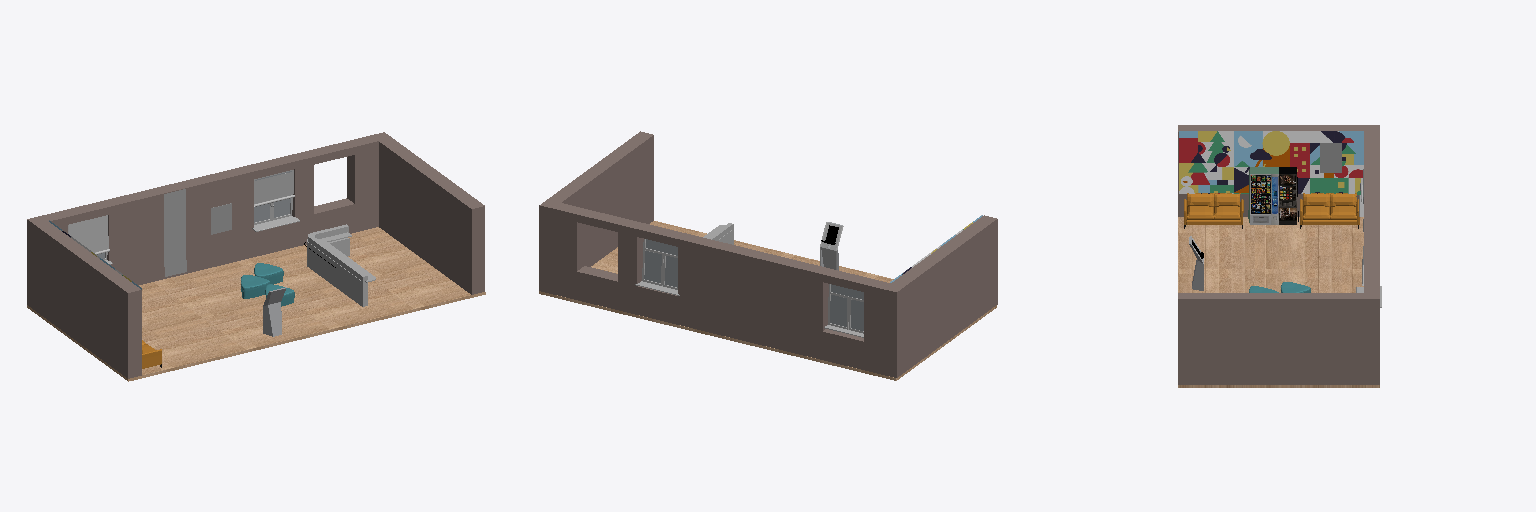
3 views of the same model, side by side, from view 1: azimuth 30°, elevation 25°; view 2: azimuth 150°, elevation 25°; view 3: azimuth 270°, elevation 25° (orthographic).
Visible parts, largest first — view 1: Group_1071, Box003, Grid, L-Ext007, Circle038, Plane2584, Circle037, Object9429, Group_001, Rectangle3, Cylinder14.Cylinder10.Cylinder11.001_Cylinder14.001; view 2: Group_1071, Box003, Plane2584, Plane2585, Group_001; view 3: Group_1071, Box003, Grid.001, Box437, Box444, Grid.005, Grid.002, Grid.008.
Part boxes in pixels (x1,y1,x2,y2): Group_1071: (27, 132, 484, 378); Box003: (27, 227, 485, 381); Grid: (164, 189, 186, 276); L-Ext007: (307, 238, 367, 306); Circle038: (69, 215, 109, 254); Plane2584: (252, 170, 299, 231); Circle037: (254, 172, 294, 206); Object9429: (308, 224, 367, 282); Group_001: (263, 287, 286, 336); Rectangle3: (211, 203, 231, 234); Cylinder14.Cylinder10.Cylinder11.001_Cylinder14.001: (241, 275, 269, 298); Group_1071: (539, 131, 997, 377); Box003: (539, 221, 996, 380); Plane2584: (635, 239, 679, 295); Plane2585: (824, 284, 863, 337); Group_001: (820, 222, 843, 270); Group_1071: (1178, 125, 1379, 384); Box003: (1178, 217, 1379, 387); Grid.001: (1179, 131, 1363, 194); Box437: (1300, 193, 1359, 228); Box444: (1184, 193, 1243, 228); Grid.005: (1250, 174, 1278, 224); Grid.002: (1279, 174, 1296, 224); Grid.008: (1320, 143, 1341, 172).
Bounding box in the file's own units: 1.31 × 0.3143 × 0.6455.
31 materials, 4 textured.